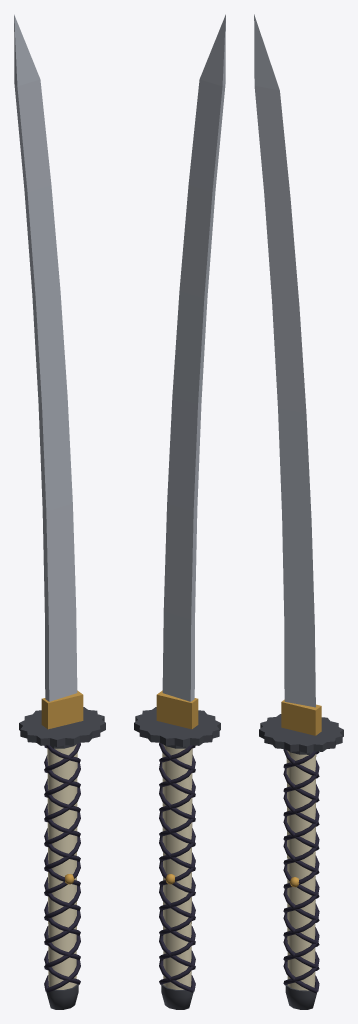
File: katana.glb
The picture shows the model from 3 angles, left to right: view 1: azimuth 30°, elevation 25°; view 2: azimuth 150°, elevation 25°; view 3: azimuth 330°, elevation 25°; orthographic projection. The views are drawn at different scales.
Parts seen in each view (by area): view 1: Katana_Blade, Katana_Tsuka, Katana_Wrap, Katana_Fittings, Katana_Brass; view 2: Katana_Blade, Katana_Tsuka, Katana_Wrap, Katana_Fittings, Katana_Brass; view 3: Katana_Blade, Katana_Tsuka, Katana_Wrap, Katana_Fittings, Katana_Brass.
Boxes of the visible parts, x1,y1,x2,y2 form: Katana_Blade: [14, 14, 77, 701]; Katana_Tsuka: [47, 744, 77, 989]; Katana_Wrap: [44, 743, 80, 992]; Katana_Fittings: [19, 707, 105, 1009]; Katana_Brass: [41, 690, 83, 884]; Katana_Blade: [162, 14, 225, 701]; Katana_Tsuka: [162, 744, 192, 989]; Katana_Wrap: [159, 743, 195, 992]; Katana_Fittings: [134, 707, 220, 1009]; Katana_Brass: [156, 690, 198, 884]; Katana_Blade: [254, 14, 315, 707]; Katana_Tsuka: [286, 750, 316, 990]; Katana_Wrap: [283, 749, 319, 993]; Katana_Fittings: [259, 714, 343, 1009]; Katana_Brass: [281, 699, 321, 887].
Size of the model in its own units: 0.0887 by 0.982 by 0.0675.
